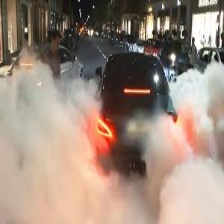smoke: (5, 75, 90, 224), (176, 73, 220, 224), (100, 170, 172, 224)
